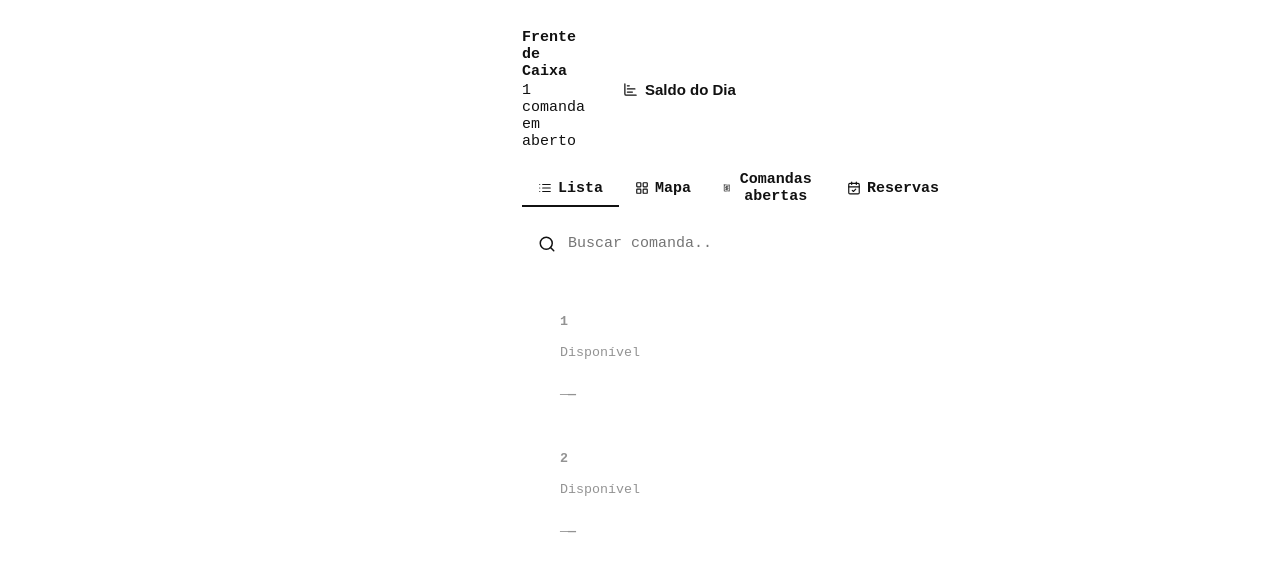
PDV, mesa pedida ao abrir comanda vazia › comanda vazia sem mesa pede a mesa e grava antes de entrar
Type "9" into the field with placeholder "Buscar comanda..." at (640, 244), box [522,224,758,263]
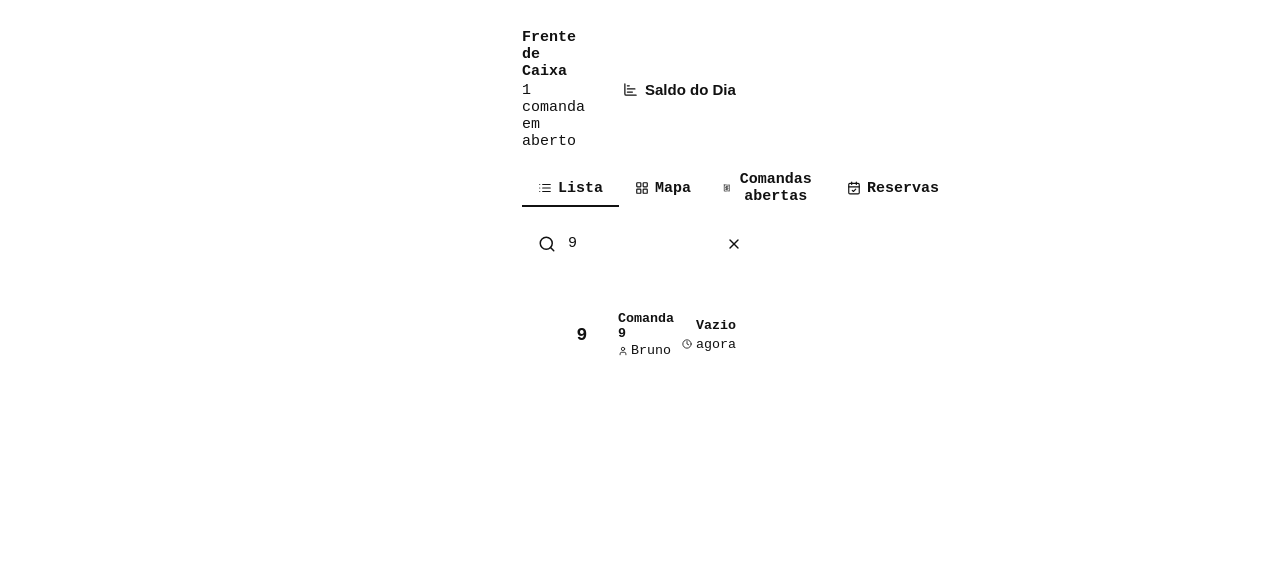
Click the button "9 Comanda 9 Bruno Vazio agora" at (648, 334), box [542,297,754,372]
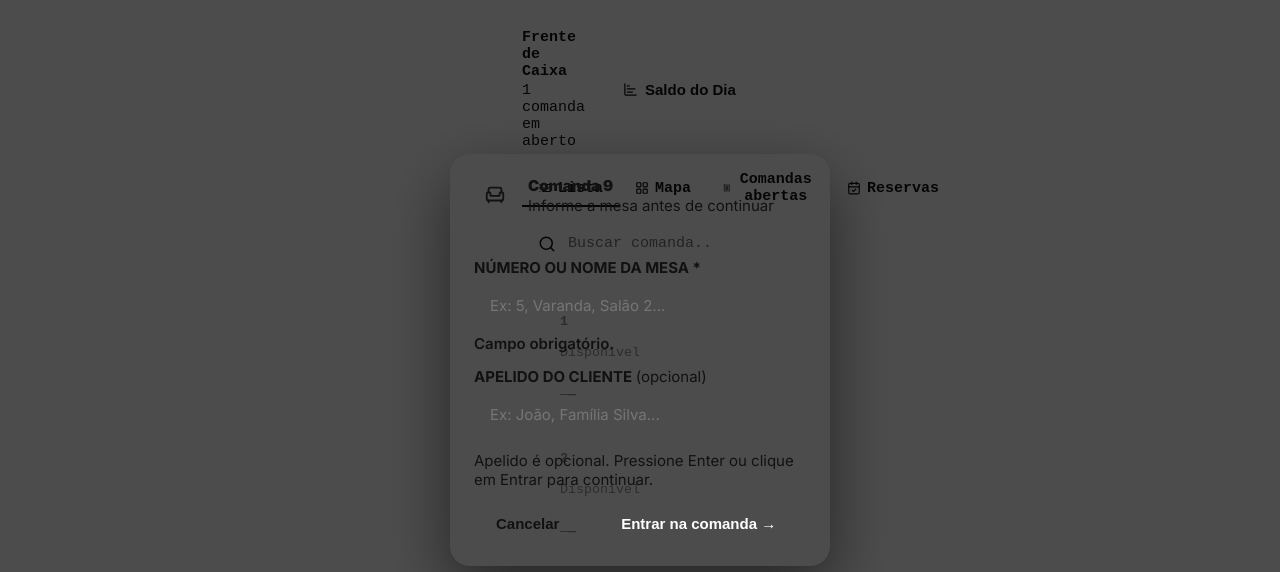
Now the text "Informe a mesa antes de continuar" is shown, box [528,196,774,214]
Type "5" into the field with placeholder "Ex: 5, Varanda, Salão 2..." at (640, 306), box [474,283,806,328]
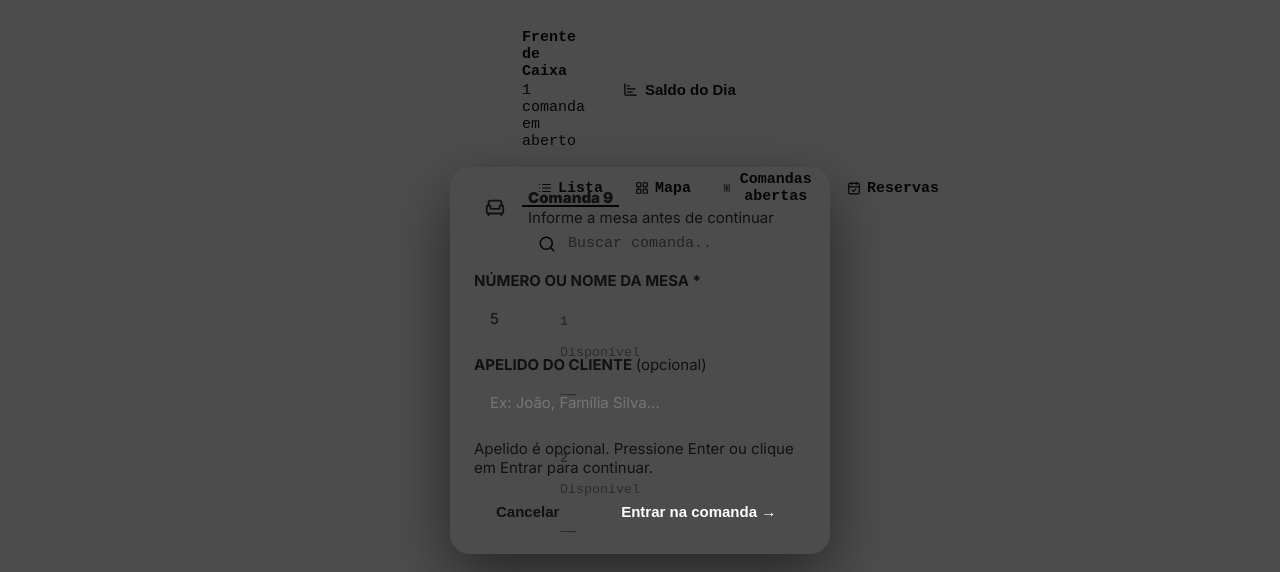
Click the button "Entrar na comanda →" at (699, 511), box [591,490,806,532]
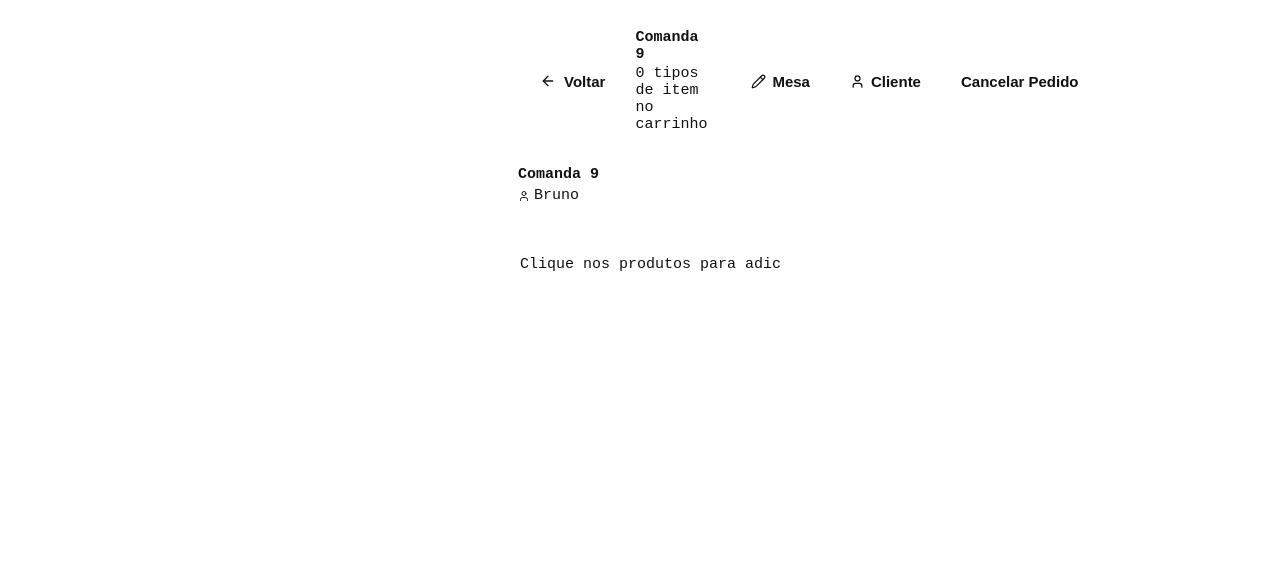
Now the text "Informe a mesa antes de continuar" is gone
